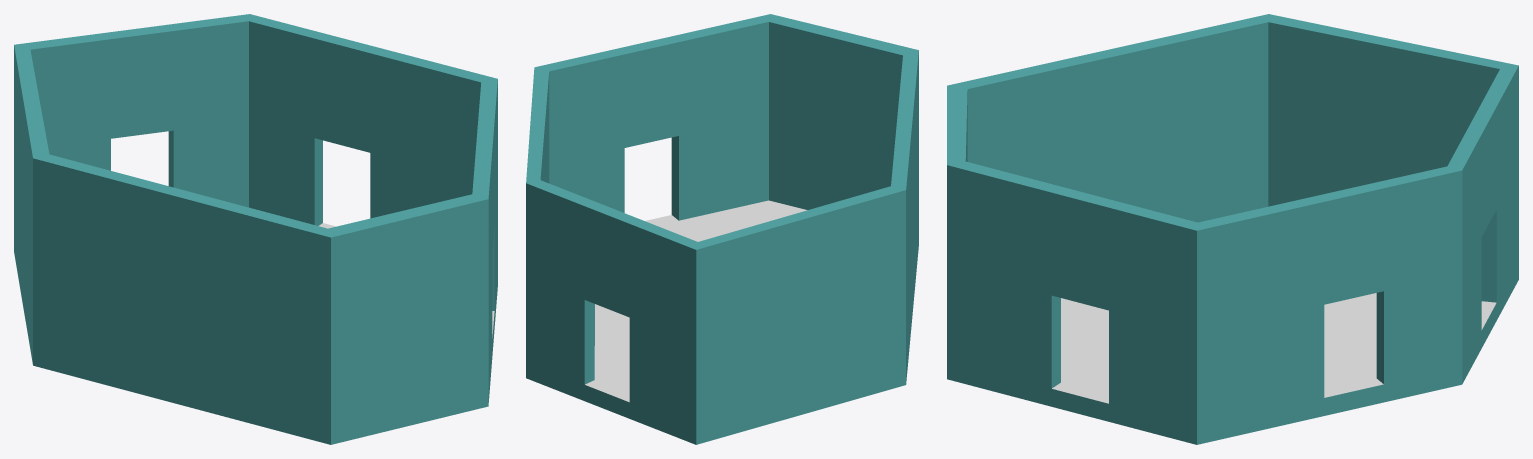
The picture shows the model from 3 angles, left to right: view 1: azimuth 30°, elevation 25°; view 2: azimuth 150°, elevation 25°; view 3: azimuth 270°, elevation 25°; orthographic projection. The views are drawn at different scales.
Parts seen in each view (by area): view 1: Sala 7; view 2: Sala 7, Sala 7.001; view 3: Sala 7, Sala 7.001.
Part boxes in pixels (<box>): Sala 7: <box>14,14,497,444</box>; Sala 7: <box>526,14,918,444</box>; Sala 7.001: <box>585,200,807,402</box>; Sala 7: <box>947,14,1518,444</box>; Sala 7.001: <box>1052,293,1496,403</box>.
Size of the model in its own units: 5256 by 2422 by 5860.
